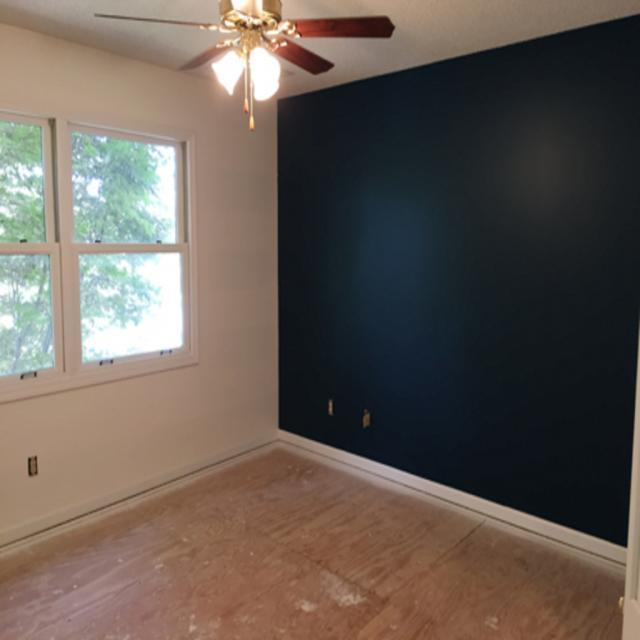fan_off: (92, 0, 392, 78)
